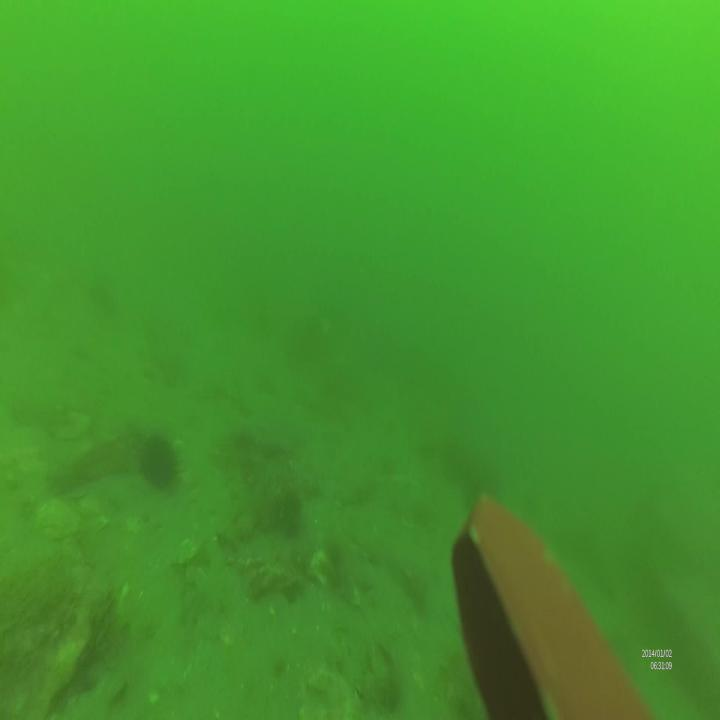echinus: (141, 434, 178, 495)
